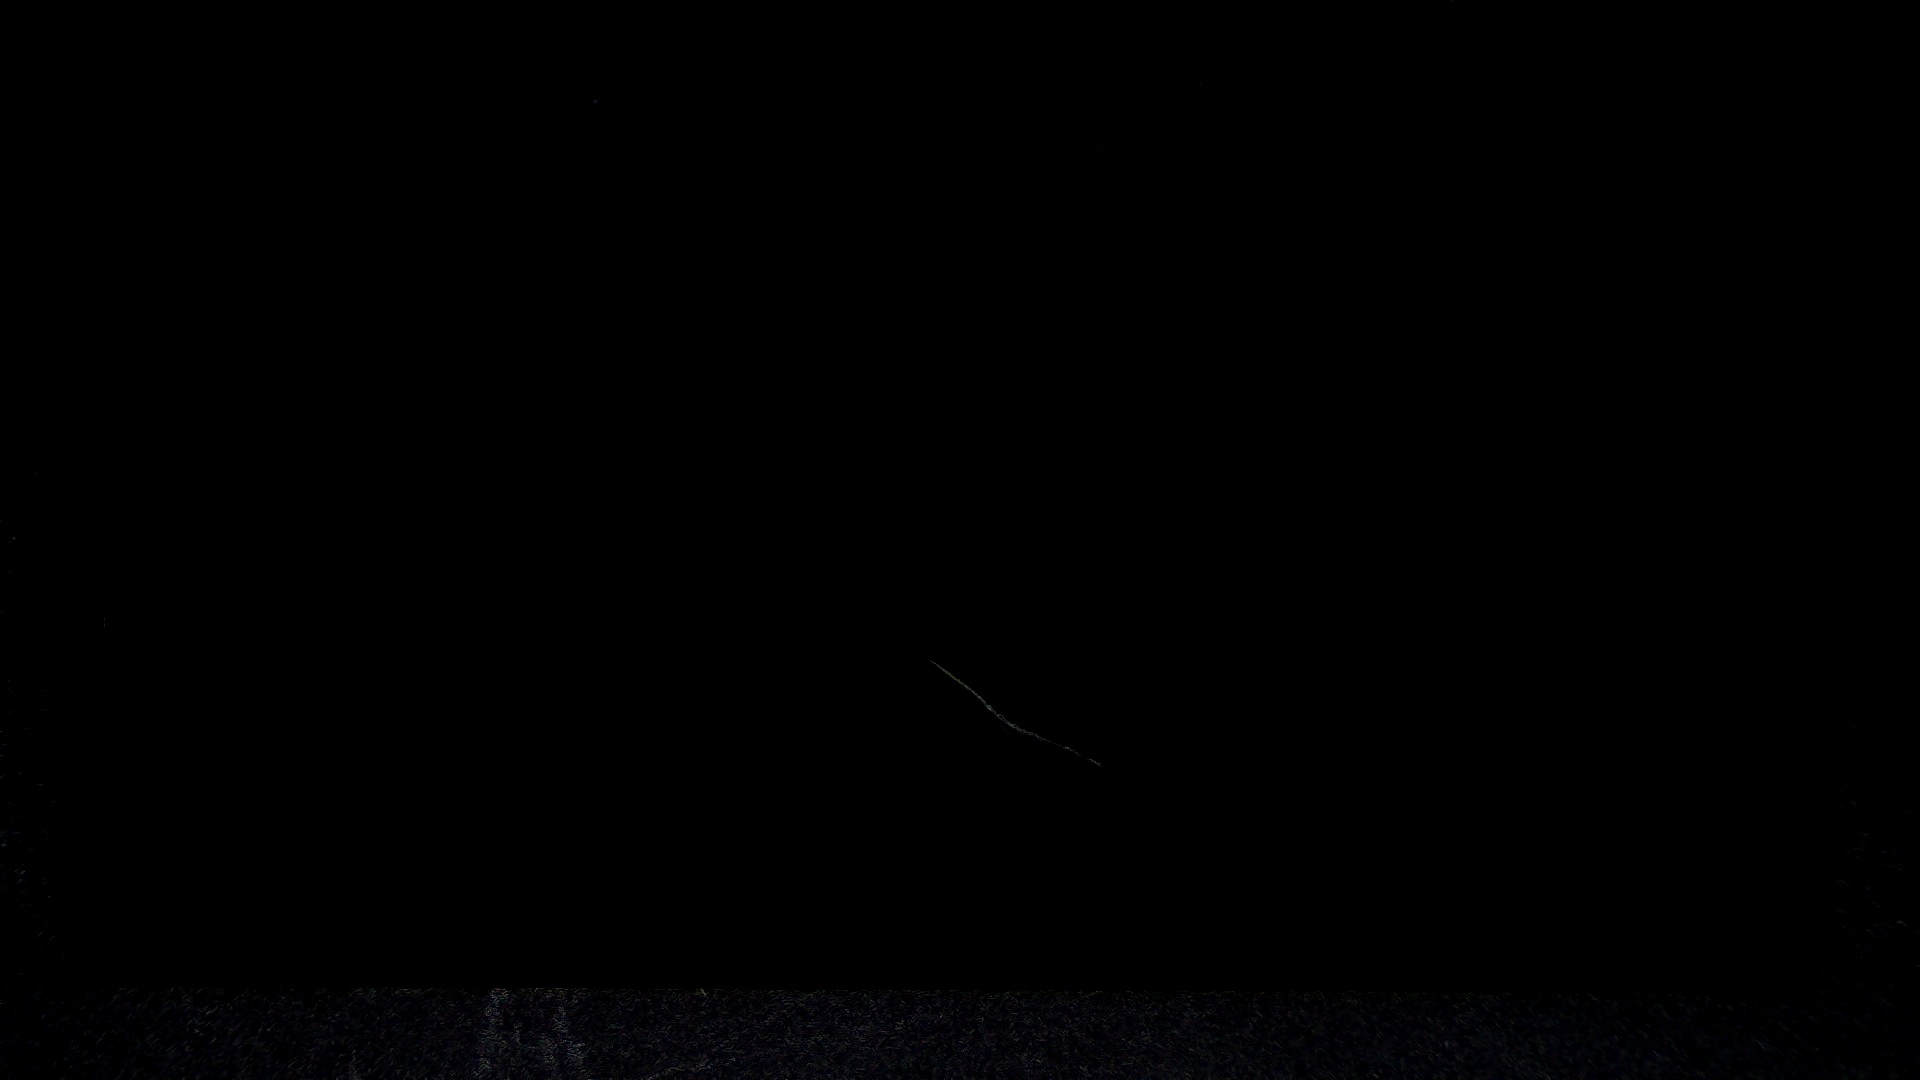oil: (462, 327, 1383, 984)
